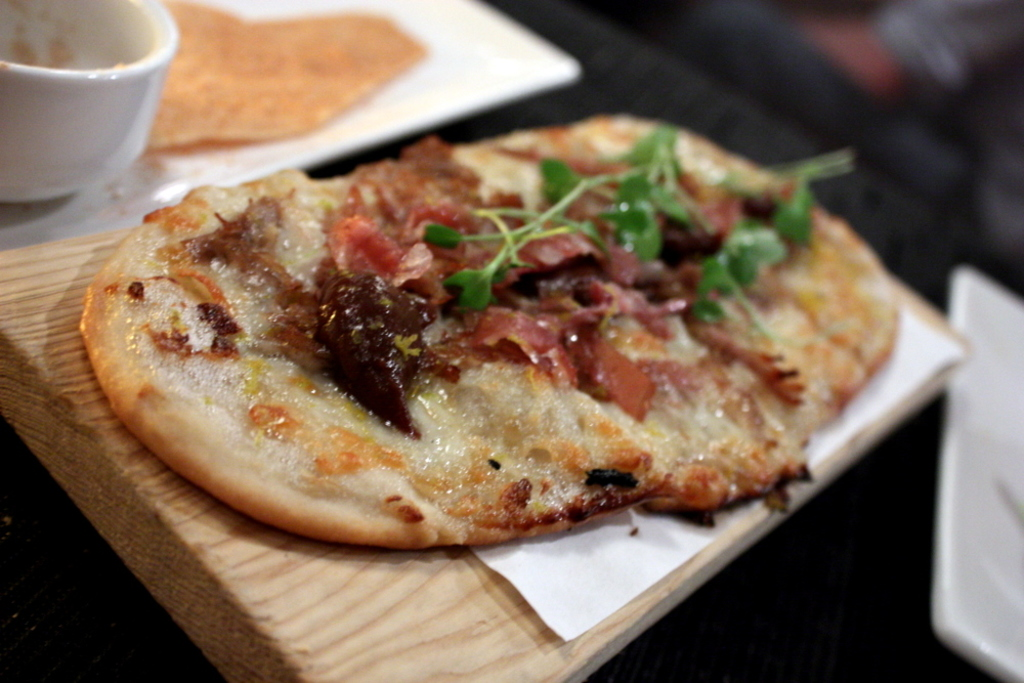Pizza: (116, 153, 667, 520), (551, 77, 906, 438), (482, 156, 759, 503), (135, 0, 413, 151)
